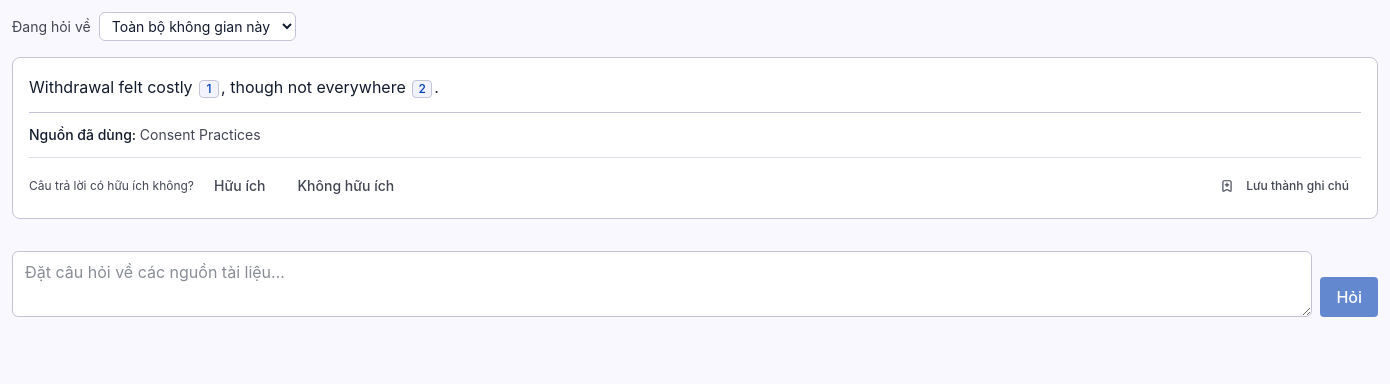
Test: assistant pane › surfaces a save failure as an error message instead of swallowing it
The image size is (1390, 384).
Click the button "Lưu thành ghi chú". click: (1285, 186)
box: 1208,170 -> 1361,202
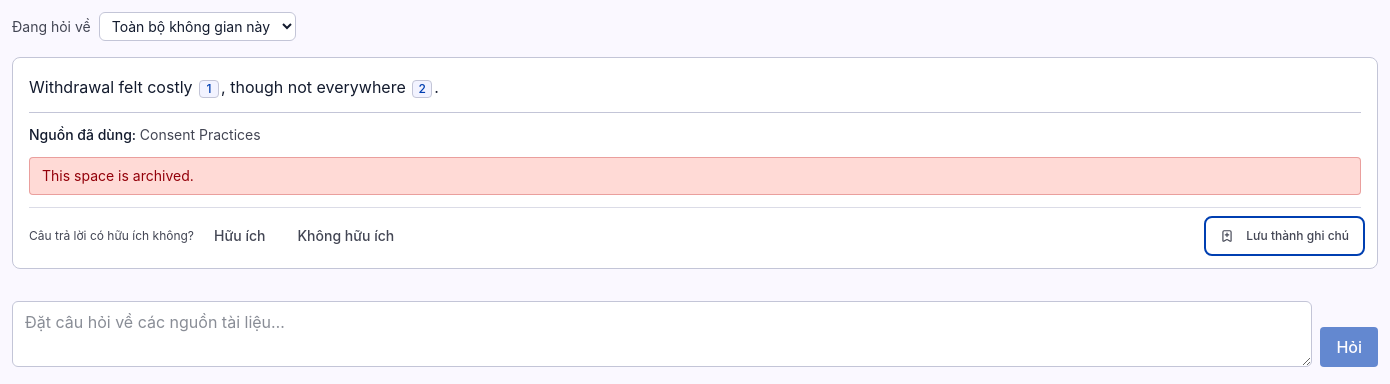
Result: the text "This space is archived." is shown at 29,157 -> 1361,195
